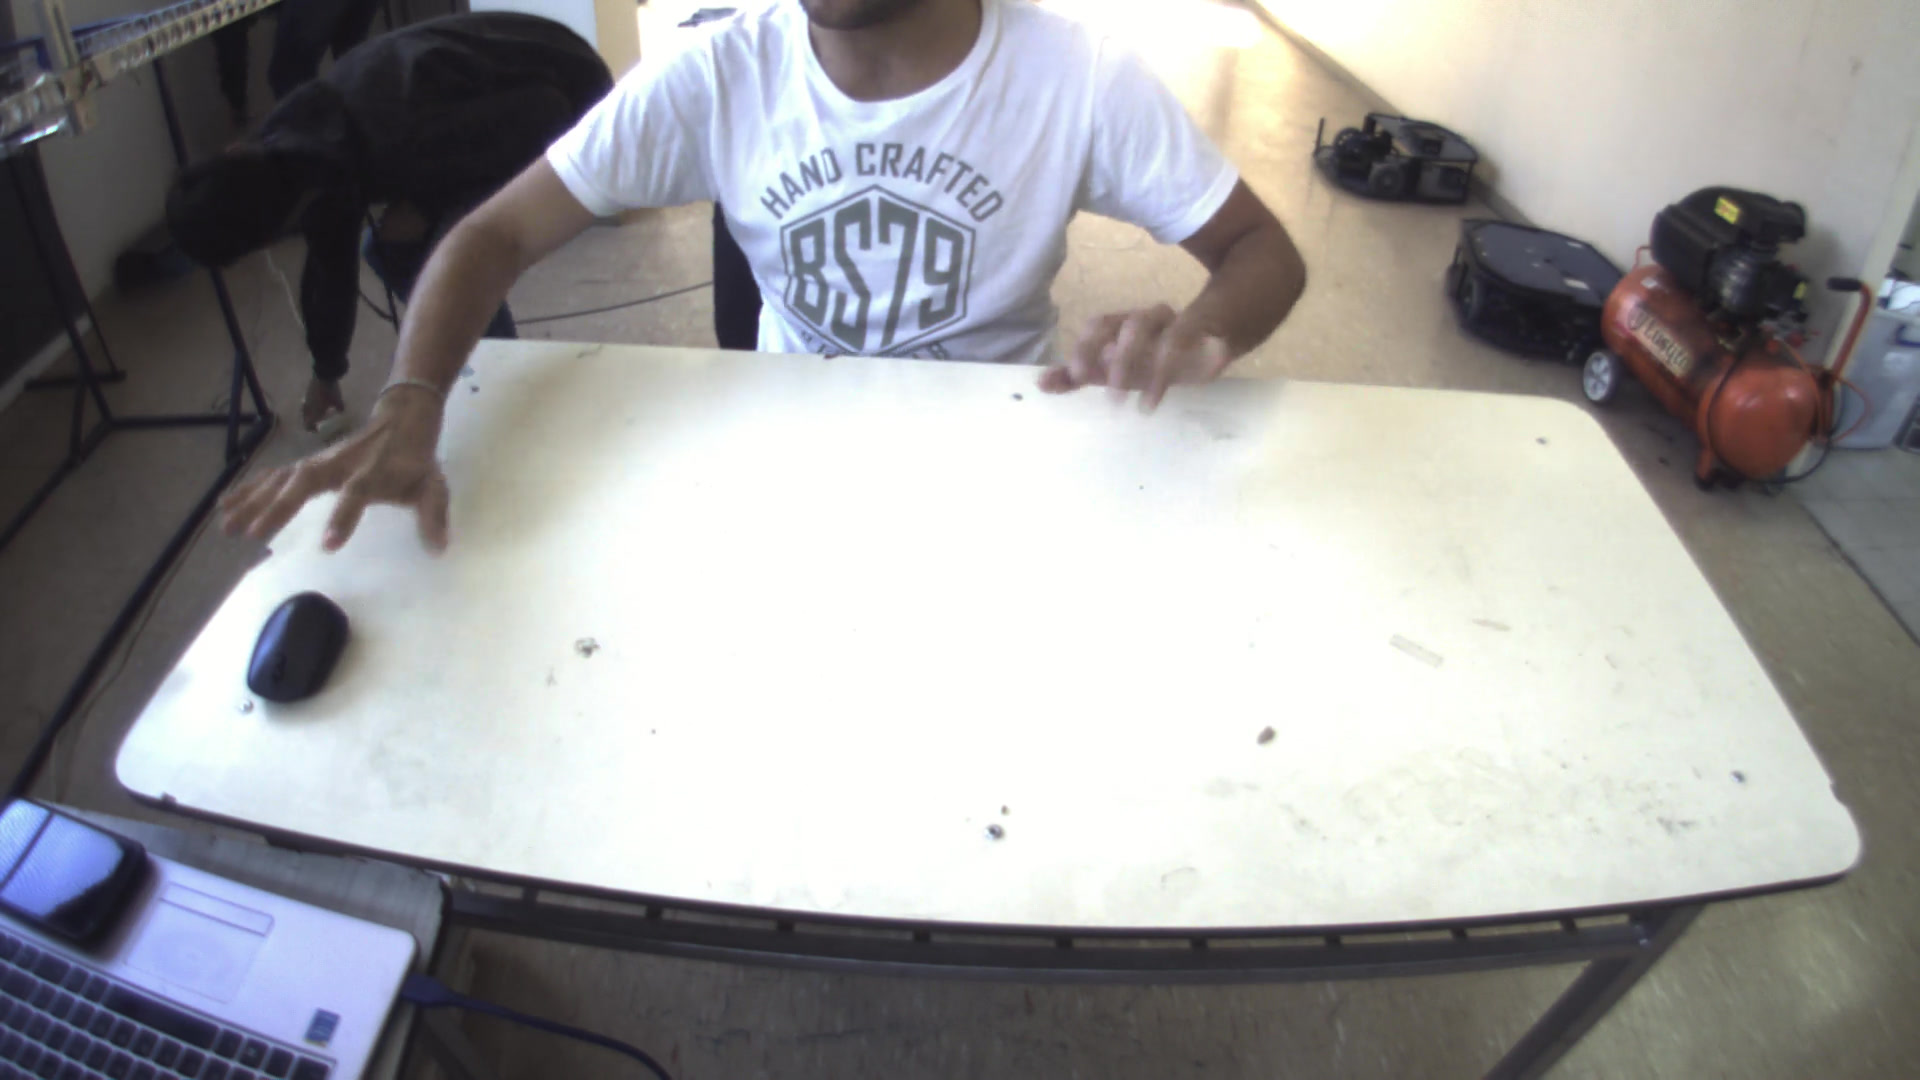hand: (199, 380, 463, 558), (1036, 305, 1237, 413)
